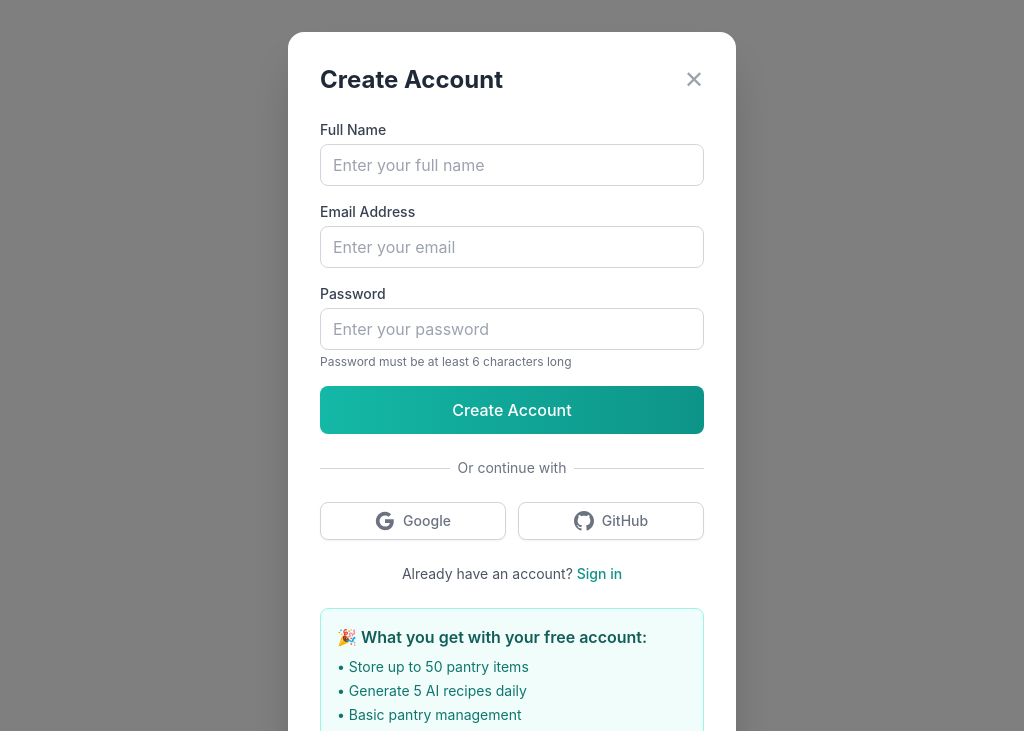
it: AuthModal Component › displays success messages
This screenshot has width=1024, height=731.
Type "John Doe" into the field labelled "Full Name" at [512, 165], box x1=320 y1=144 x2=704 y2=186
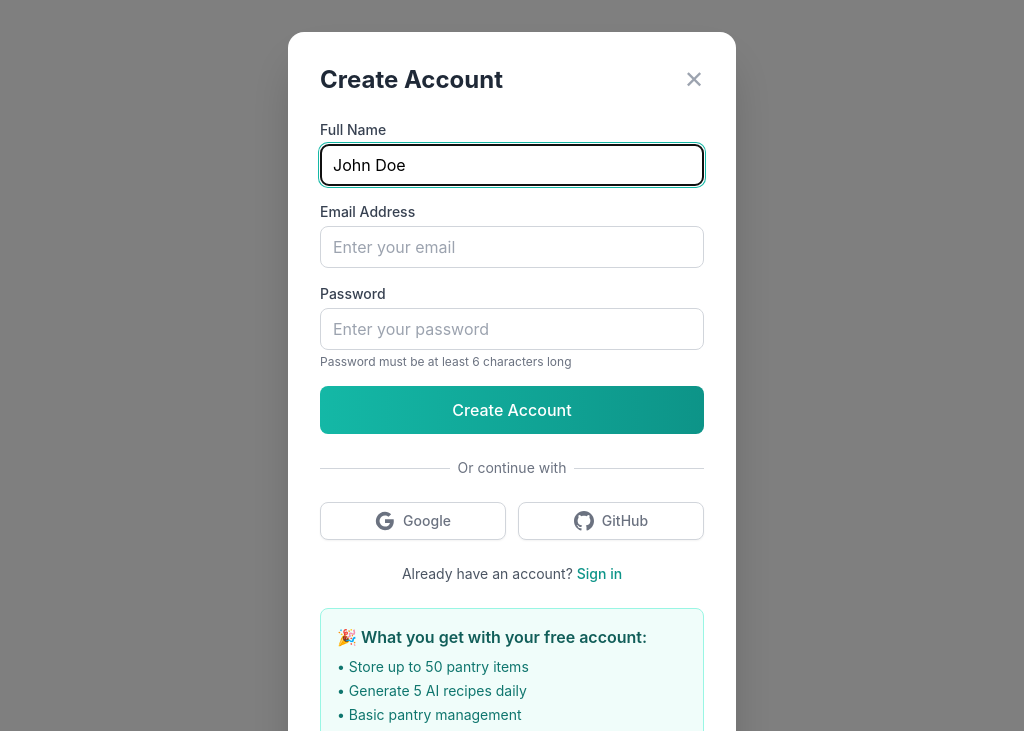
Type "test@example.com" into the field labelled "Email Address" at [512, 247], box x1=320 y1=226 x2=704 y2=268
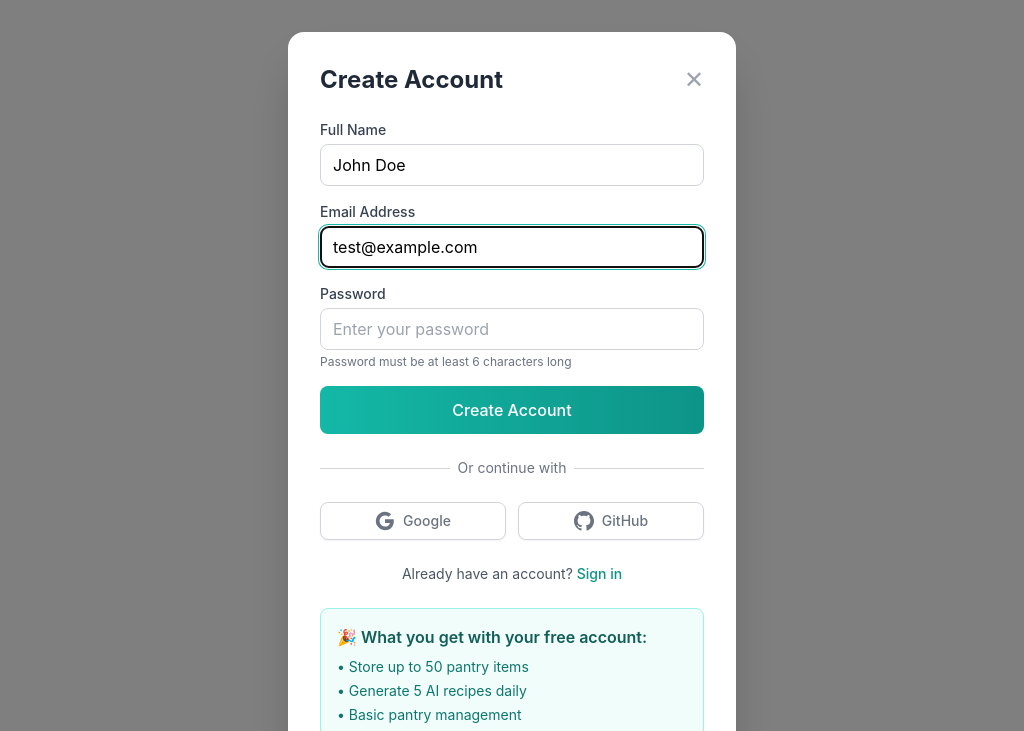
Type "password123" into the password field labelled "Password" at [512, 329], box x1=320 y1=308 x2=704 y2=350
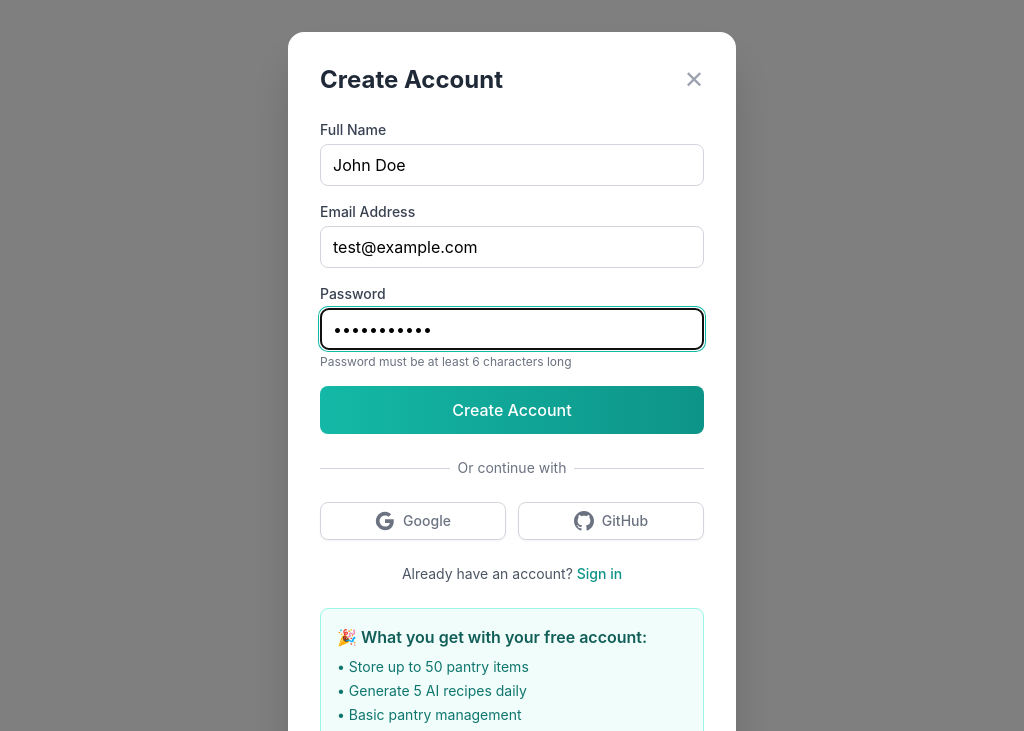
Click the button "Create Account" at [512, 410], box x1=320 y1=386 x2=704 y2=434
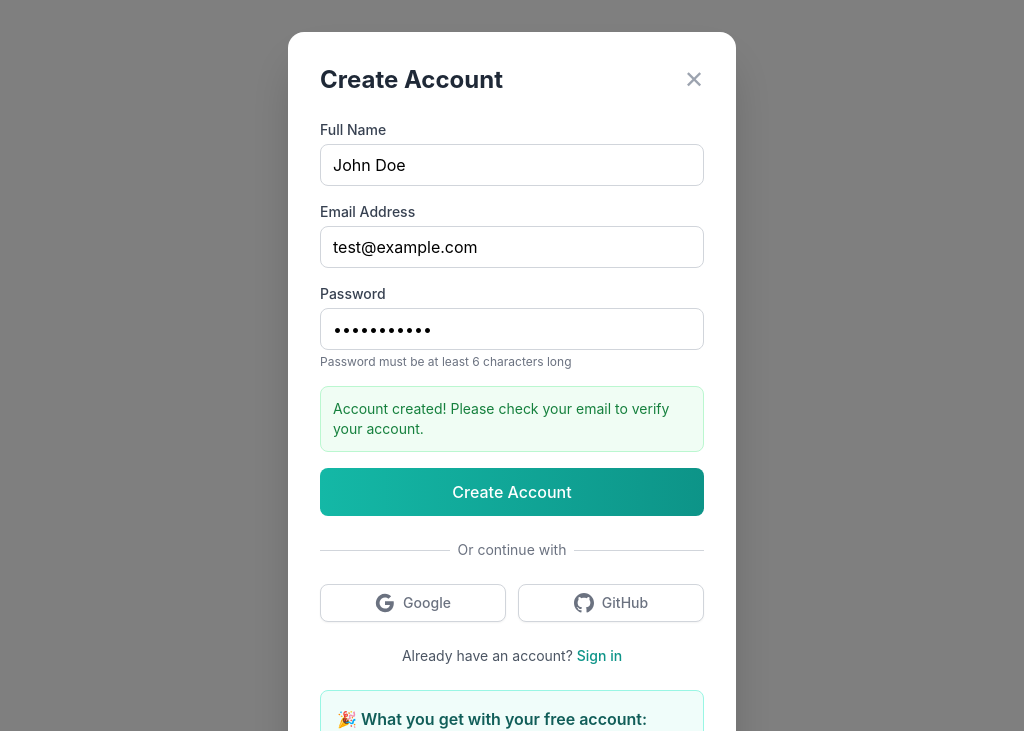
Now the text "Account created" is shown, box x1=333 y1=400 x2=669 y2=437
